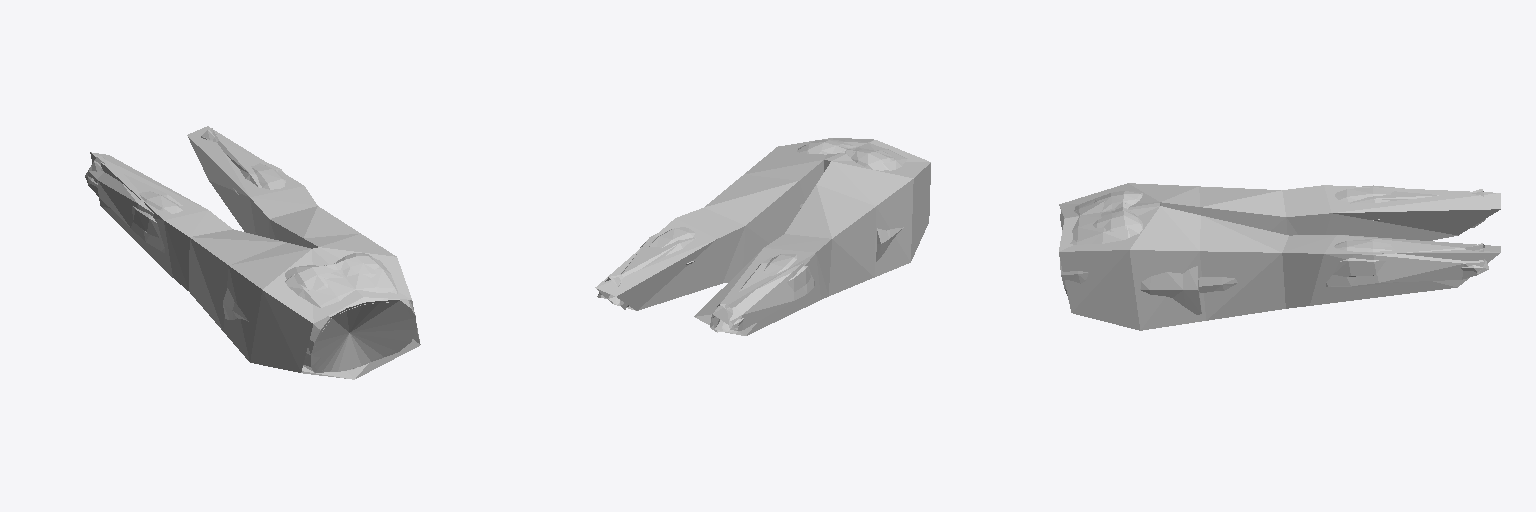
The model's file is lowr_000_r.obj.
3 views of the same model, side by side, from view 1: azimuth 30°, elevation 25°; view 2: azimuth 150°, elevation 25°; view 3: azimuth 270°, elevation 25° (orthographic).
Visible parts, largest first — view 1: lowr_000_r_low_1, lowr_000_r_high_1, lowr_000_r_med_1; view 2: lowr_000_r_low_1, lowr_000_r_med_1, lowr_000_r_high_1; view 3: lowr_000_r_low_1, lowr_000_r_med_1, lowr_000_r_high_1.
Boxes of the visible parts, x1=… form: lowr_000_r_low_1: x1=90, y1=126, x2=420, y2=379; lowr_000_r_high_1: x1=85, y1=130, x2=411, y2=372; lowr_000_r_med_1: x1=88, y1=128, x2=416, y2=372; lowr_000_r_low_1: x1=595, y1=138, x2=930, y2=335; lowr_000_r_med_1: x1=600, y1=140, x2=907, y2=330; lowr_000_r_high_1: x1=597, y1=140, x2=894, y2=333; lowr_000_r_low_1: x1=1059, y1=183, x2=1500, y2=330; lowr_000_r_med_1: x1=1060, y1=185, x2=1484, y2=314; lowr_000_r_high_1: x1=1062, y1=187, x2=1488, y2=276.
Size of the model in its own units: 0.4158 by 0.2726 by 1.05.